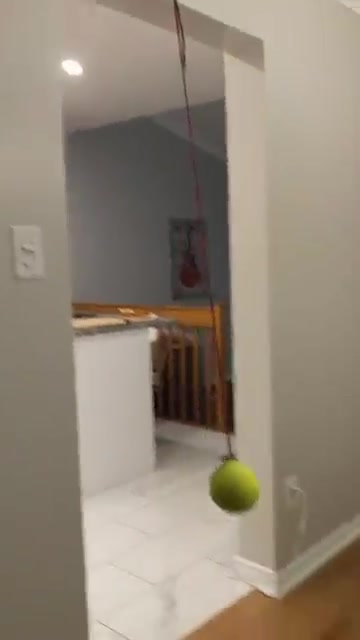tennis_ball: (206, 456, 263, 515)
